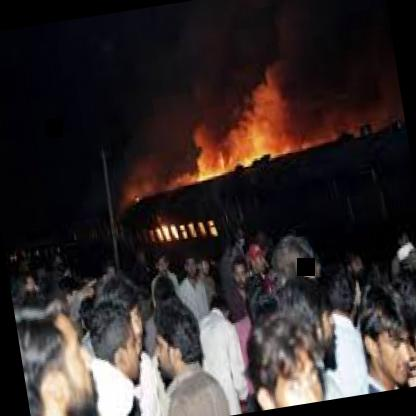fire: (147, 52, 330, 246)
